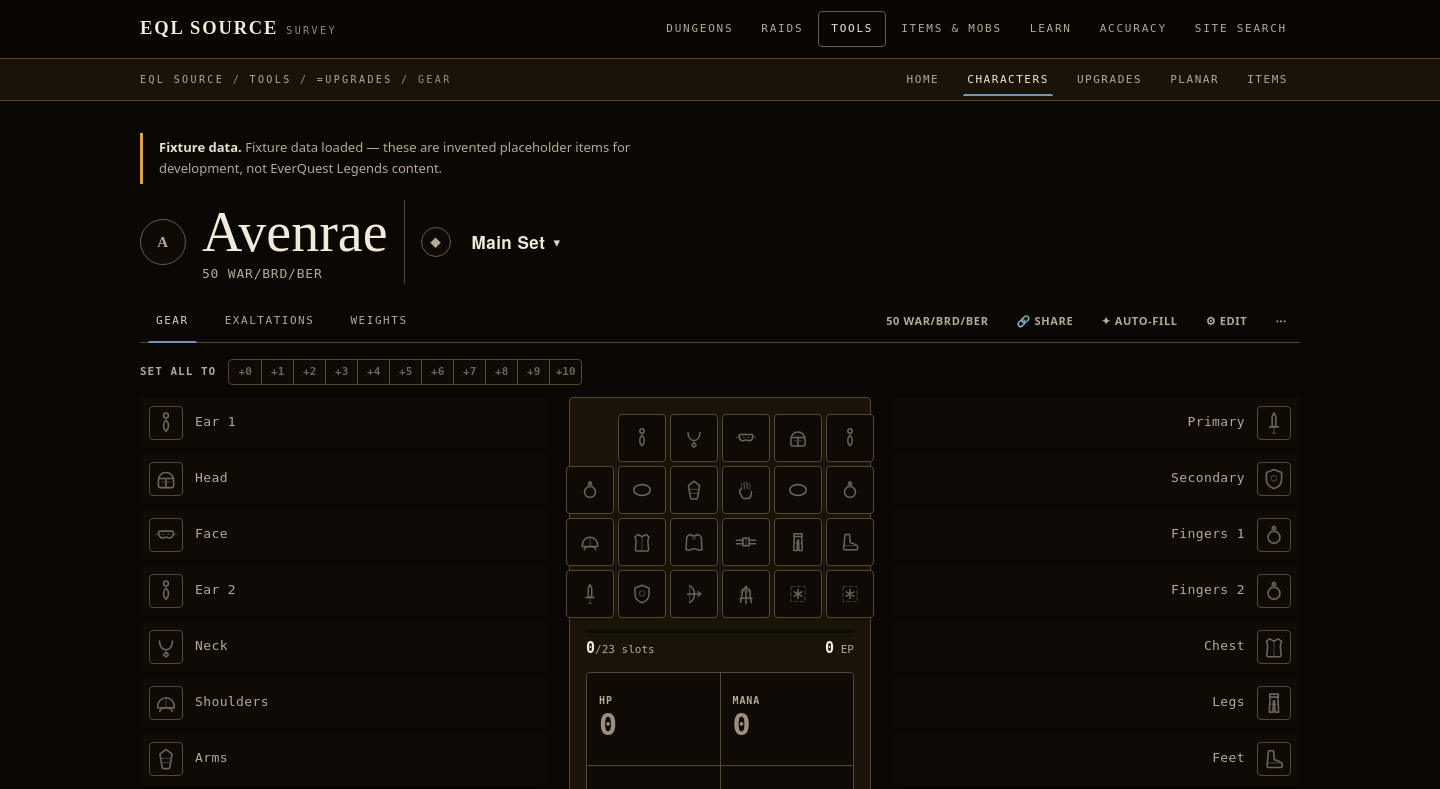
the three filter controls › still counts only what it shows
Click the button "Head".
click(166, 478)  # box x1=141 y1=454 x2=536 y2=504
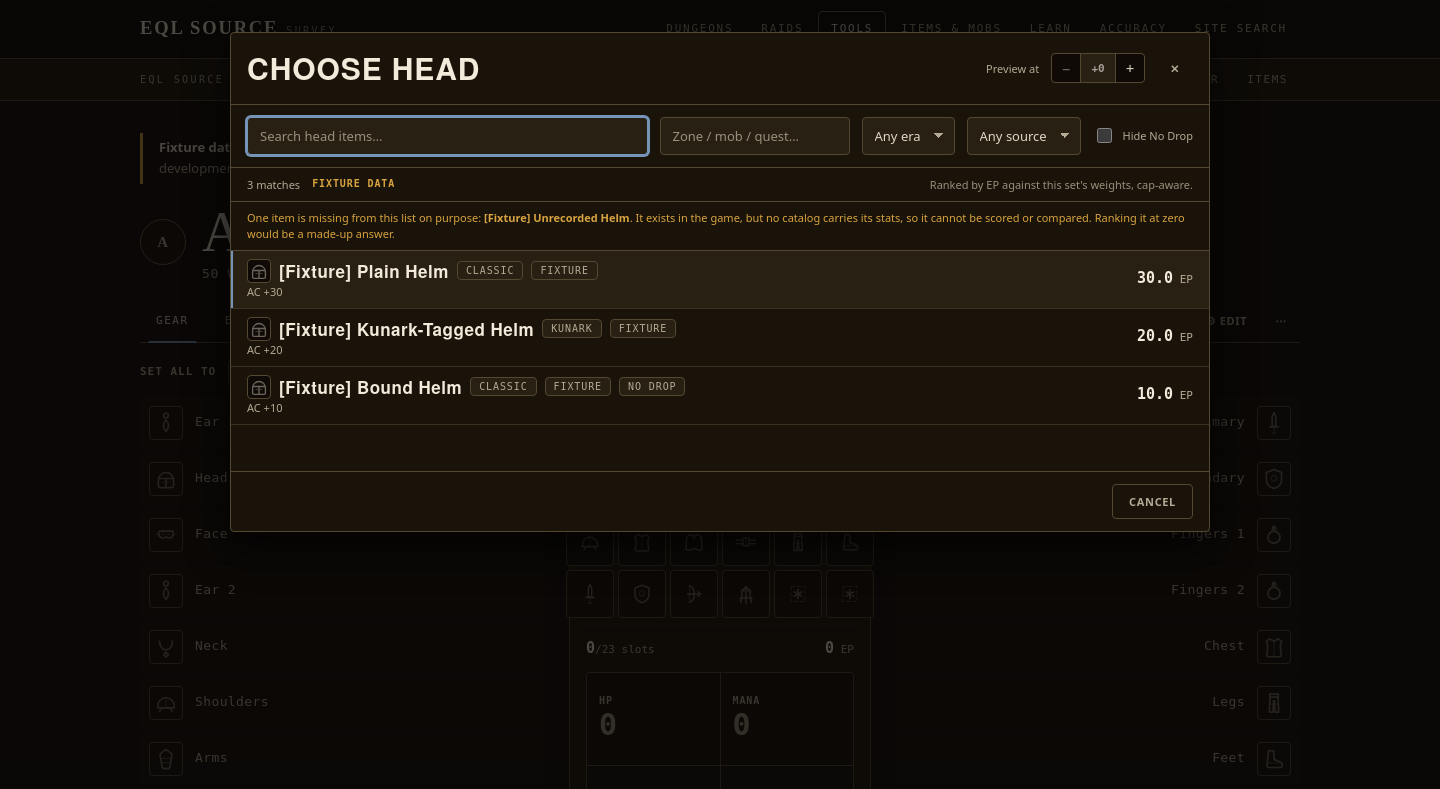
Expected: the element that starts with "3 matches" is shown, x1=247 y1=177 x2=300 y2=192
Expected: the text "Hide No Drop" is shown, x1=1092 y1=125 x2=1193 y2=146
Click the checkbox labelled "Hide No Drop".
click(1104, 136)  # box x1=1096 y1=128 x2=1112 y2=143
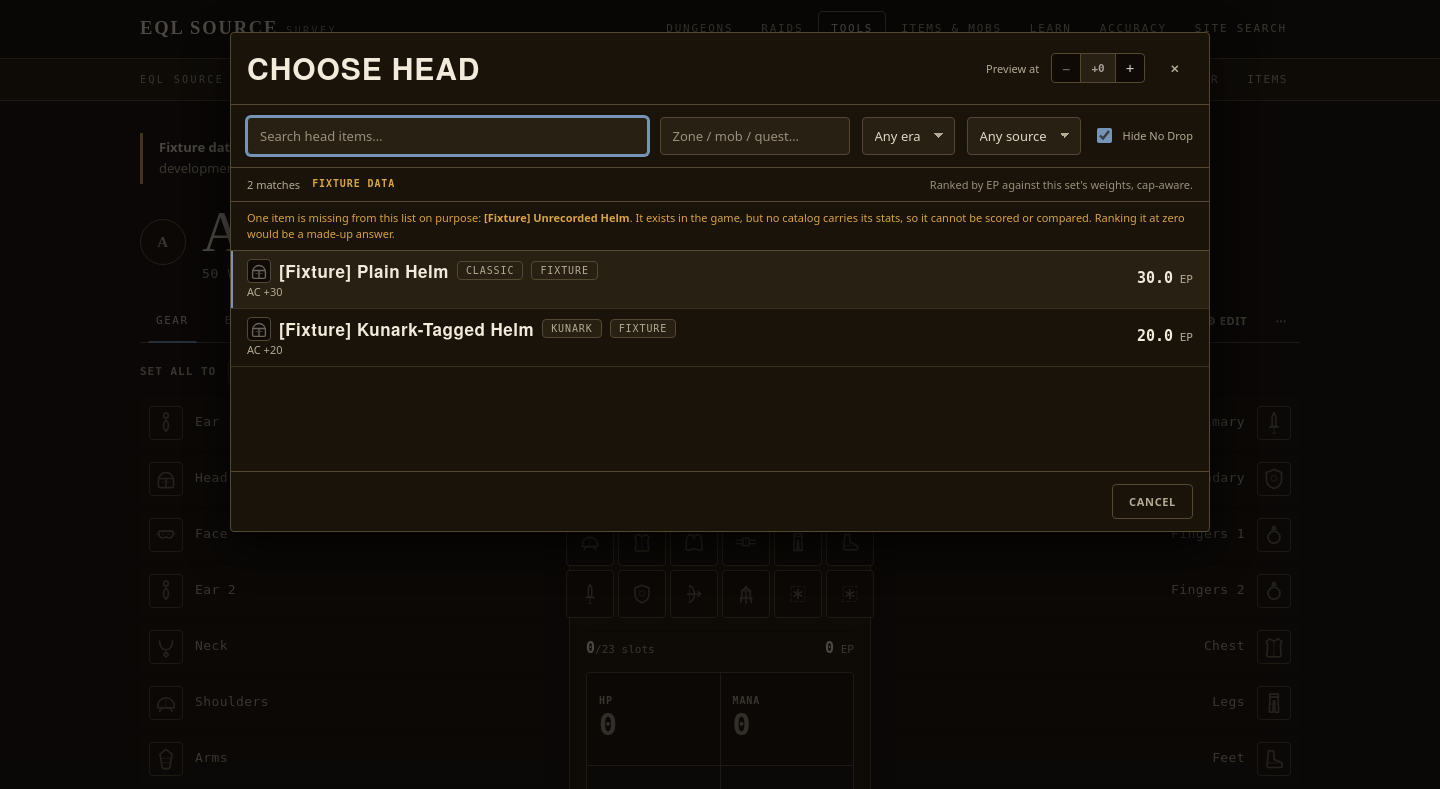
Expected: the element that starts with "2 matches" is shown, x1=247 y1=177 x2=300 y2=192
Select "Kunark" in the dropdown named "Filter by era" at (908, 136), box x1=862 y1=116 x2=954 y2=155
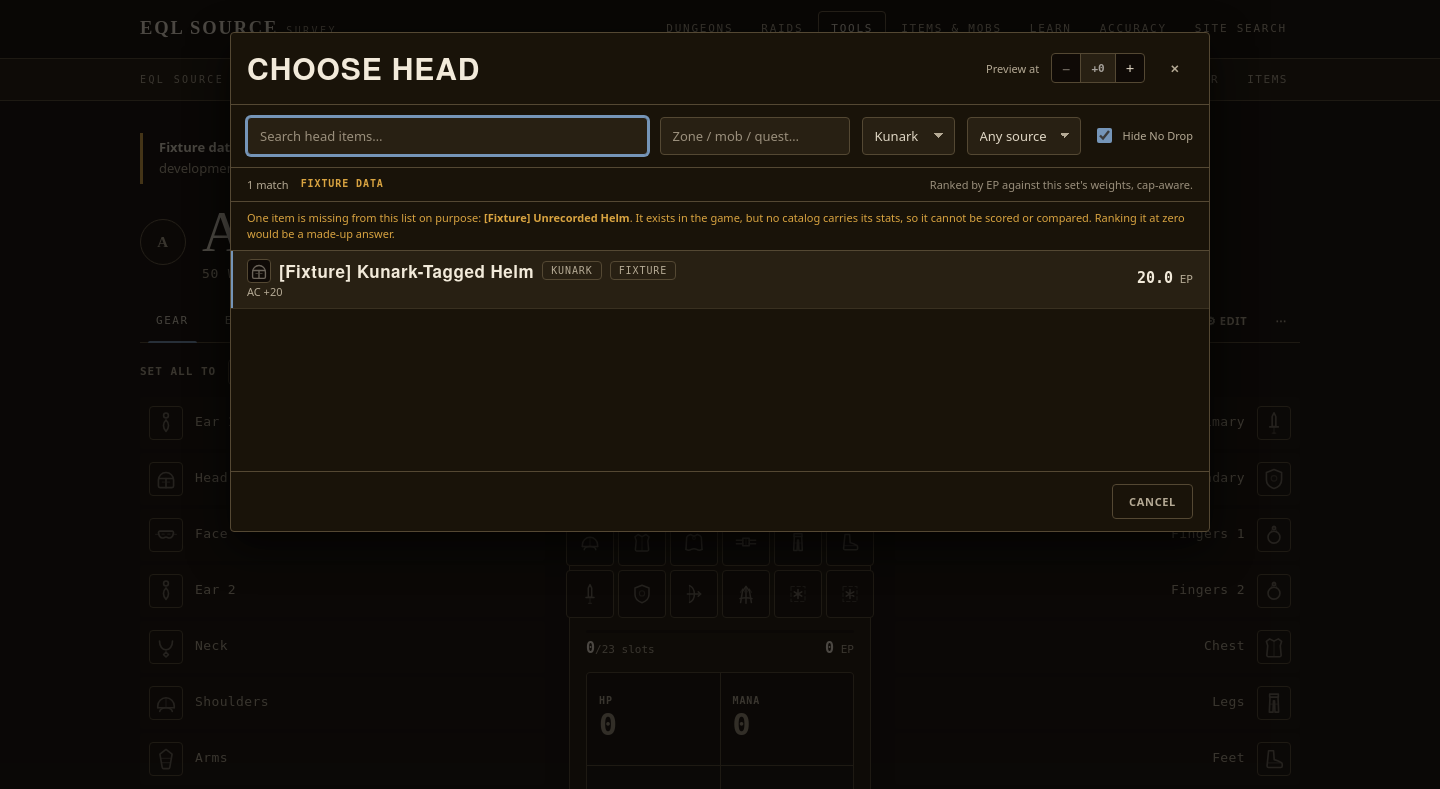
Expected: the element that starts with "1 match" is shown, x1=247 y1=177 x2=289 y2=192
